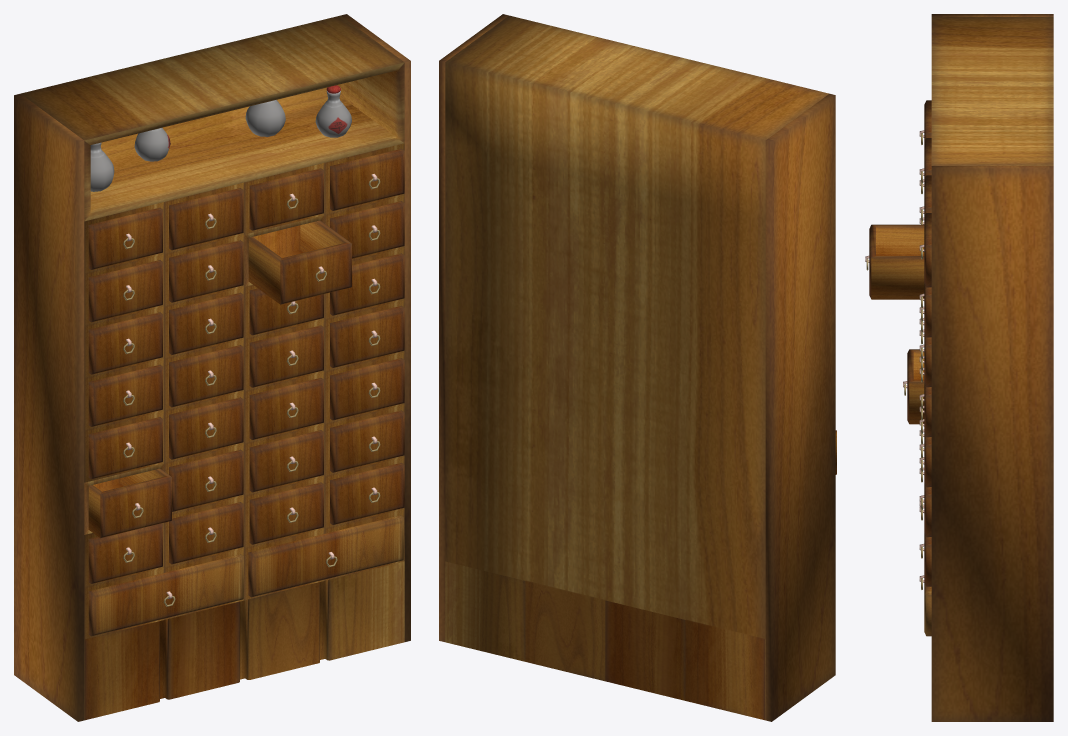
Rendered from Sark_10.FBX.
3 views of the same model, side by side, from view 1: azimuth 30°, elevation 25°; view 2: azimuth 150°, elevation 25°; view 3: azimuth 270°, elevation 25° (orthographic). The views are drawn at different scales.
Parts seen in each view (by area): view 1: Sark_10; view 2: Sark_10; view 3: Sark_10.
Boxes of the visible parts, box(x1,y1,x2,y2) form: Sark_10: box(14, 14, 410, 721); Sark_10: box(439, 14, 836, 721); Sark_10: box(865, 14, 1053, 721).
Bounding box in the file's own units: 56.23 × 93.66 × 28.94.
